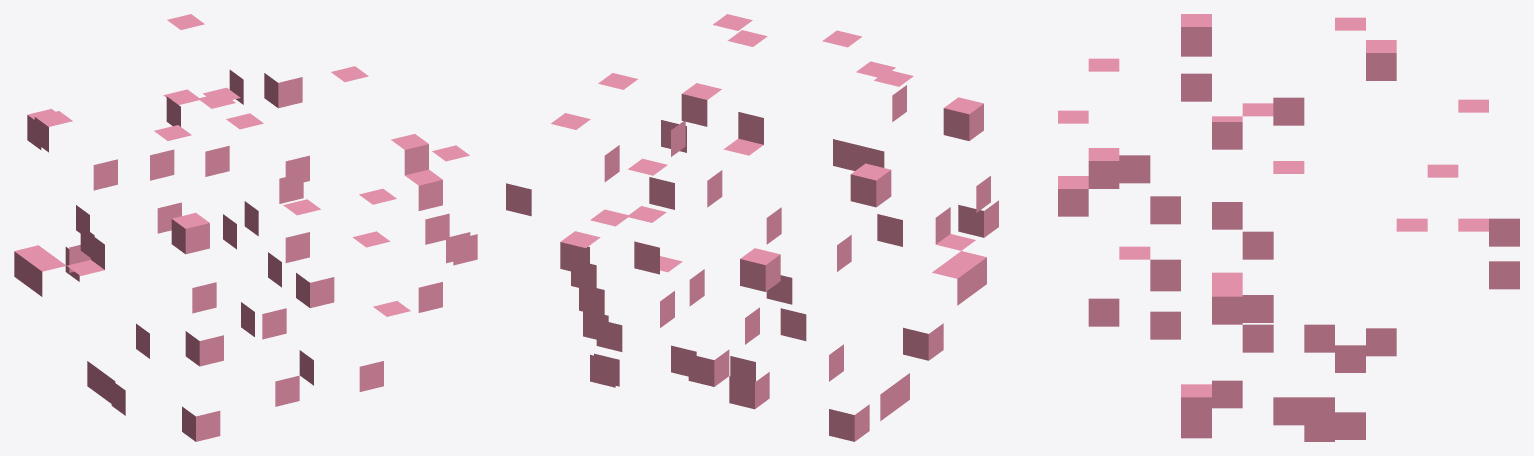
File: tree-cherry-1p25-pink1-ff9dbb.gltf
The picture shows the model from 3 angles, left to right: view 1: azimuth 30°, elevation 25°; view 2: azimuth 150°, elevation 25°; view 3: azimuth 270°, elevation 25°; orthographic projection. The views are drawn at different scales.
Visible parts, largest first — view 1: tree-cherry-1p25-pink1-ff9dbb; view 2: tree-cherry-1p25-pink1-ff9dbb; view 3: tree-cherry-1p25-pink1-ff9dbb.
Boxes of the visible parts, box(x1,y1,x2,y2) form: tree-cherry-1p25-pink1-ff9dbb: box(14, 14, 477, 441); tree-cherry-1p25-pink1-ff9dbb: box(506, 14, 998, 441); tree-cherry-1p25-pink1-ff9dbb: box(1058, 14, 1519, 441).
Size of the model in its own units: 17 by 13 by 16.
